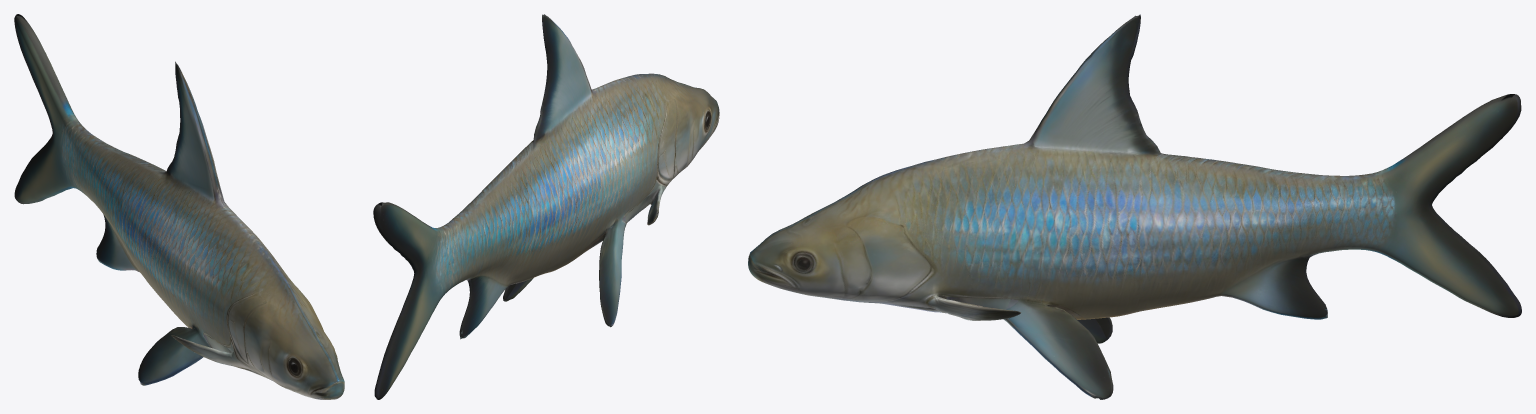
The model's file is balashark_0604061228_texture.glb.
3 views of the same model, side by side, from view 1: azimuth 30°, elevation 25°; view 2: azimuth 150°, elevation 25°; view 3: azimuth 270°, elevation 25° (orthographic). The views are drawn at different scales.
Size of the model in its own units: 0.3975 by 1.02 by 2.
Materials: 1 (1 with a texture image).
